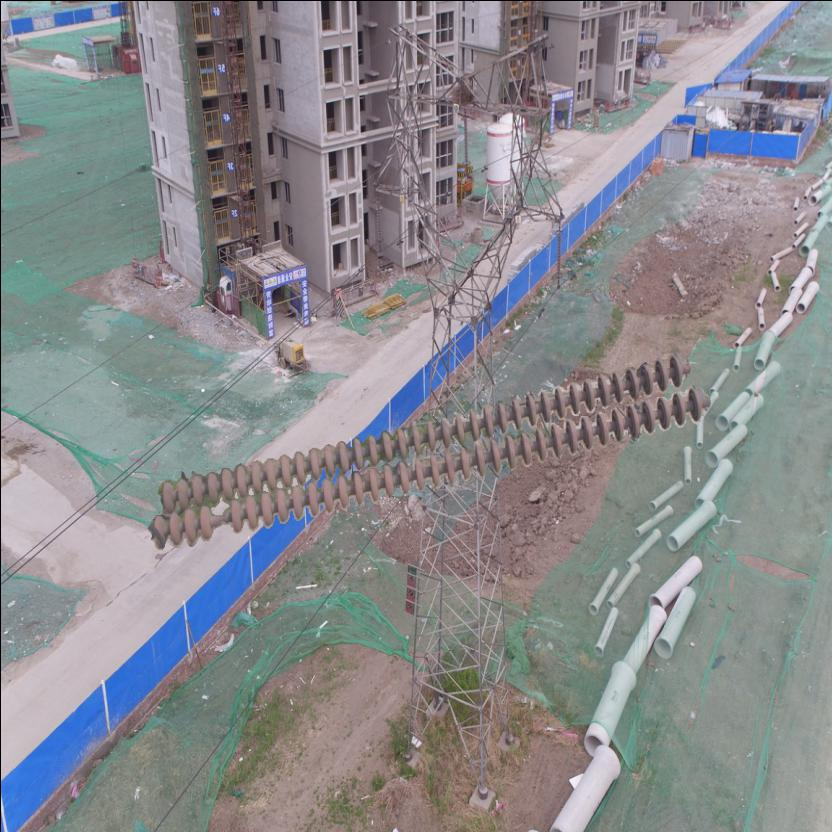defect: (197, 496, 246, 540)
